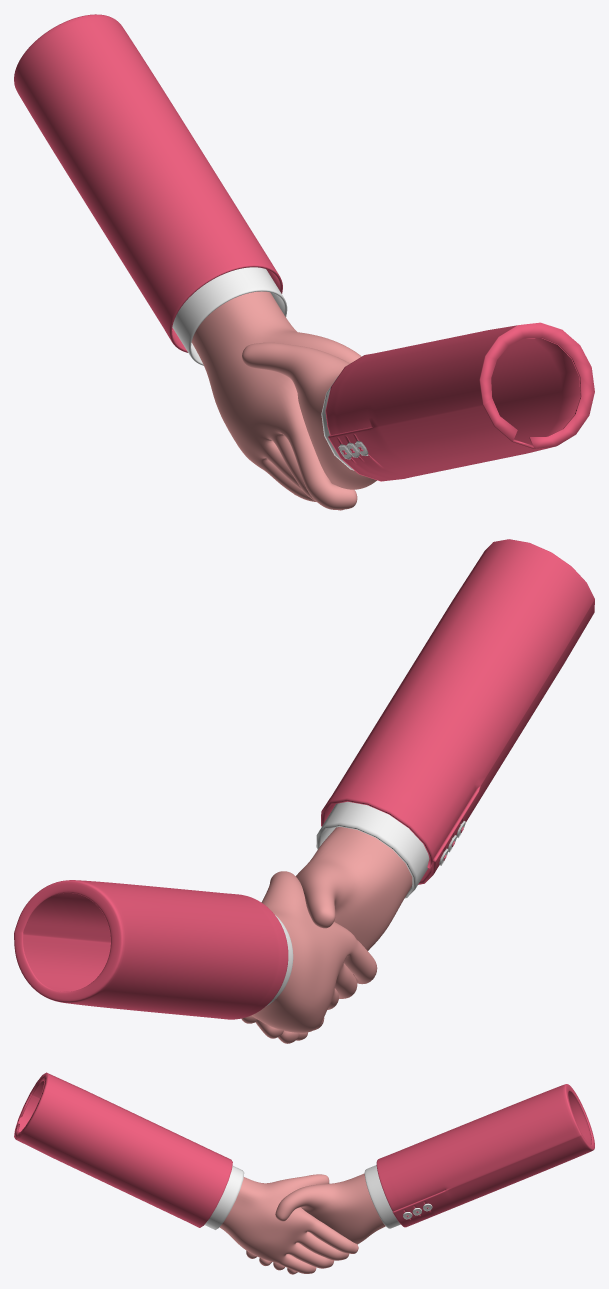
File: Estrechando manos.fbx
3 renders of one model, top to bottom at view 1: azimuth 30°, elevation 25°; view 2: azimuth 150°, elevation 25°; view 3: azimuth 270°, elevation 25°, orthographic. The views are drawn at different scales.
Visible parts, largest first — view 1: Cube_005_Cube_008, Cube_004_Cube_007, Cube_Cube_021, Cube_002_Cube_001; view 2: Cube_004_Cube_007, Cube_005_Cube_008, Cube_002_Cube_001, Cube_Cube_021; view 3: Cube_004_Cube_007, Cube_005_Cube_008, Cube_002_Cube_001, Cube_Cube_021.
Part boxes in pixels (x1,y1,x2,y2): Cube_005_Cube_008: (14,14,287,365); Cube_004_Cube_007: (321,322,594,481); Cube_Cube_021: (191,291,361,510); Cube_002_Cube_001: (242,342,376,494); Cube_004_Cube_007: (316,539,594,898); Cube_005_Cube_008: (14,880,293,1019); Cube_002_Cube_001: (241,827,412,1043); Cube_Cube_021: (251,871,377,1032); Cube_004_Cube_007: (14,1072,244,1229); Cube_005_Cube_008: (364,1084,594,1228); Cube_002_Cube_001: (219,1174,358,1273); Cube_Cube_021: (246,1173,385,1274).
Size of the model in its own units: 14.9 by 40.98 by 110.
